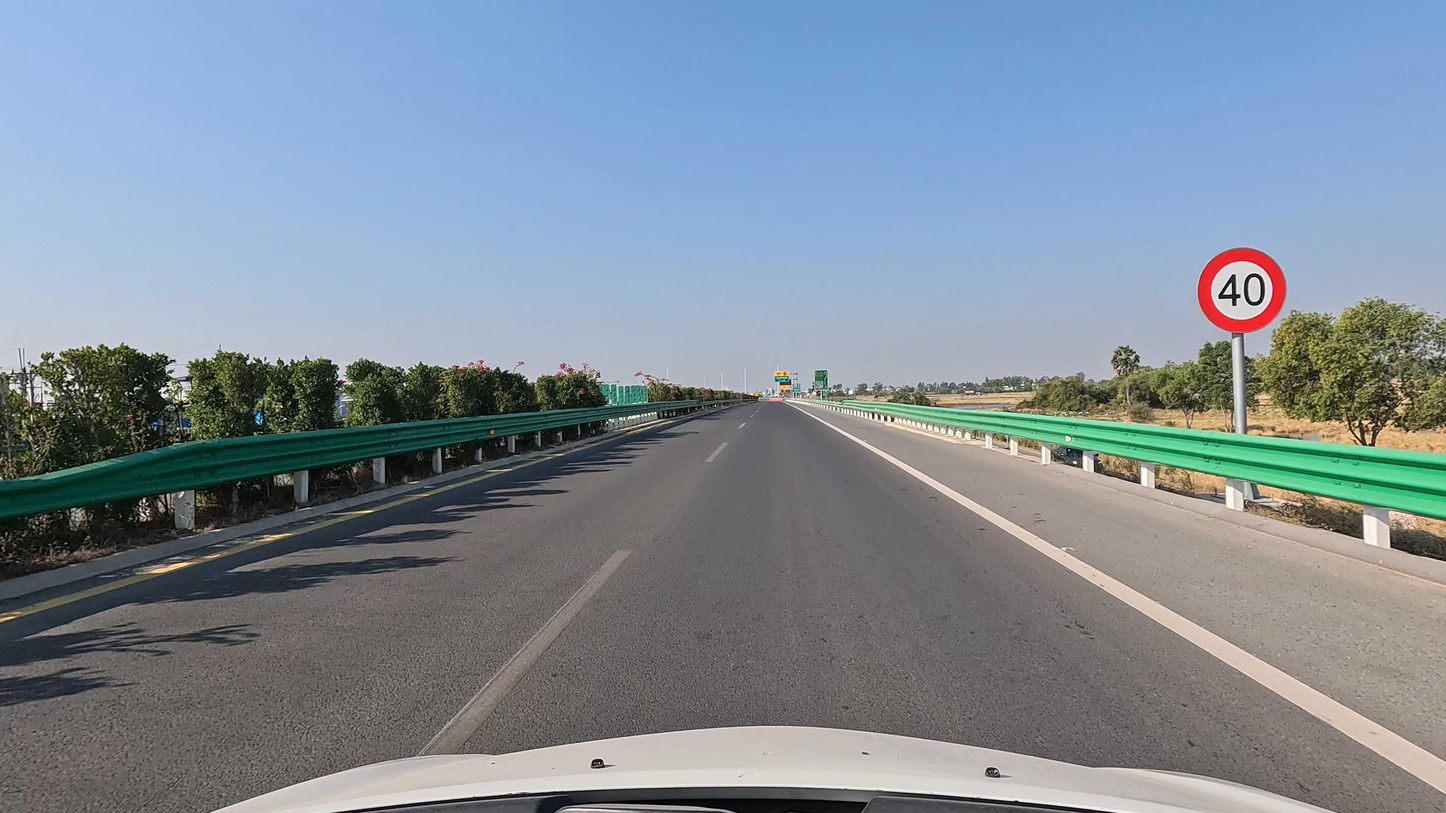speed_limit_40: (1197, 247, 1289, 335)
